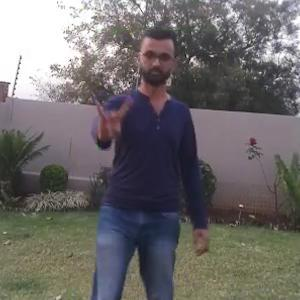takeoff-hand: (88, 91, 134, 150)
